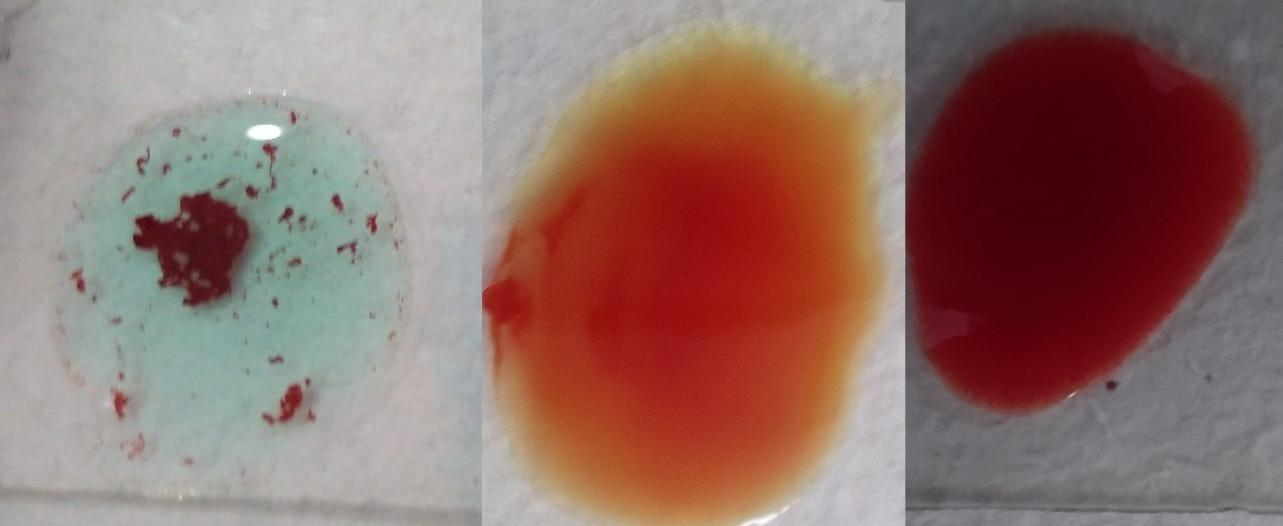A: (44, 86, 404, 470)
